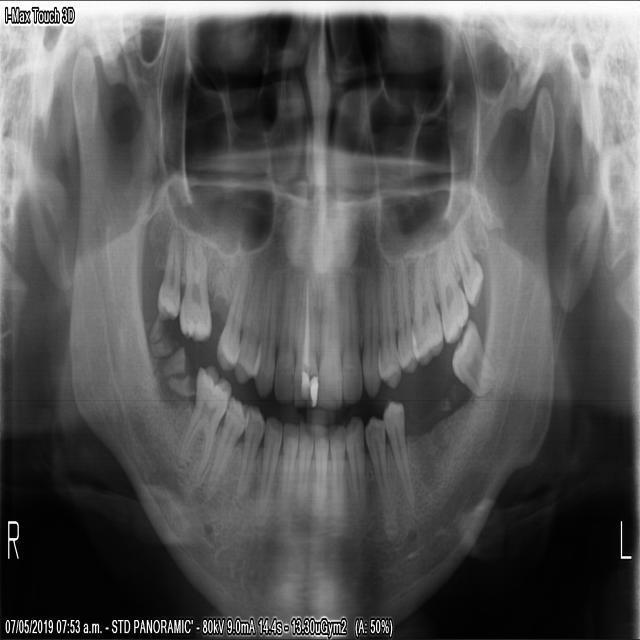LCD: (348, 418, 366, 512)
LCU: (361, 262, 380, 400)
LID: (328, 425, 346, 524), (312, 428, 330, 512)
LIU: (318, 268, 344, 412), (341, 270, 363, 403)
LMD: (445, 315, 495, 400)
LMU: (430, 230, 470, 344), (410, 243, 444, 373), (447, 214, 484, 310)
LPMD: (383, 395, 414, 508), (367, 414, 389, 505)
LPMU: (378, 259, 401, 387), (395, 252, 418, 375)
RCD: (257, 419, 282, 513)
RCU: (253, 254, 281, 404)
RID: (279, 417, 299, 505), (295, 423, 314, 508)
RIU: (273, 265, 298, 410), (294, 269, 318, 407)
RMD: (180, 357, 232, 483), (155, 345, 195, 397), (148, 313, 177, 358)
RMU: (179, 229, 211, 342), (156, 229, 181, 327)
RPMD: (202, 393, 251, 495), (235, 405, 264, 498)
RPMU: (215, 249, 253, 373), (233, 254, 265, 384)
